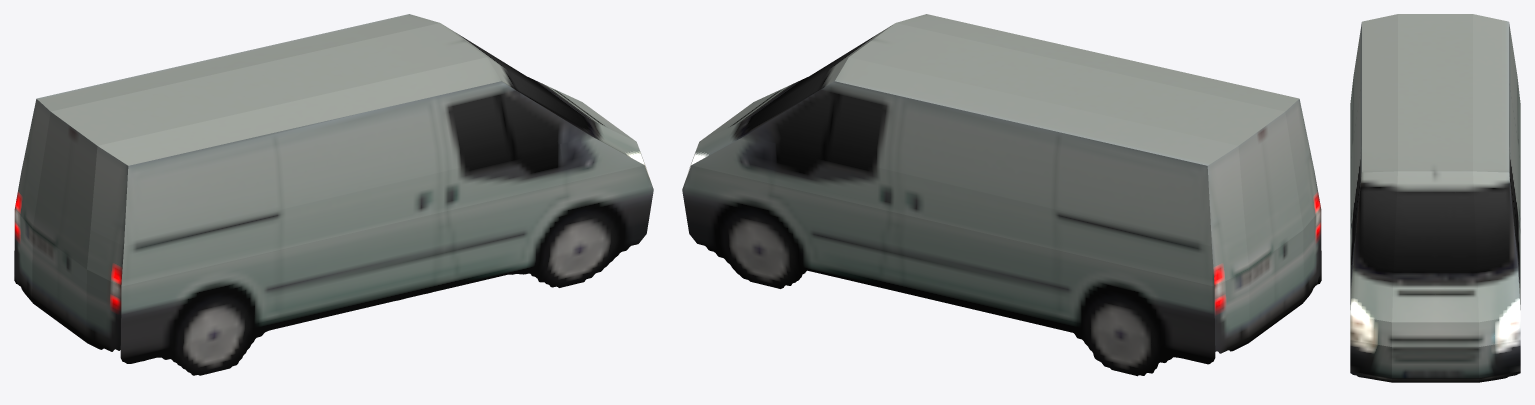
File: van.glb
3 views of the same model, side by side, from view 1: azimuth 30°, elevation 25°; view 2: azimuth 150°, elevation 25°; view 3: azimuth 270°, elevation 25° (orthographic). The views are drawn at different scales.
Parts seen in each view (by area): view 1: Cube.007; view 2: Cube.007; view 3: Cube.007.
Boxes of the visible parts, box(x1,y1,x2,y2) form: Cube.007: box(14, 14, 653, 375); Cube.007: box(682, 14, 1321, 376); Cube.007: box(1350, 14, 1520, 382).
Bounding box in the file's own units: 5.92 × 2.28 × 1.95.
5 materials, 5 textured.
